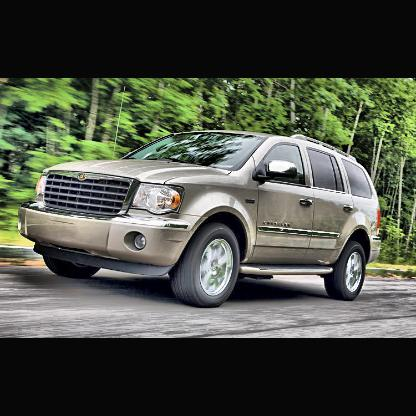Chrysler Aspen SUV 2009: (18, 119, 382, 305)
